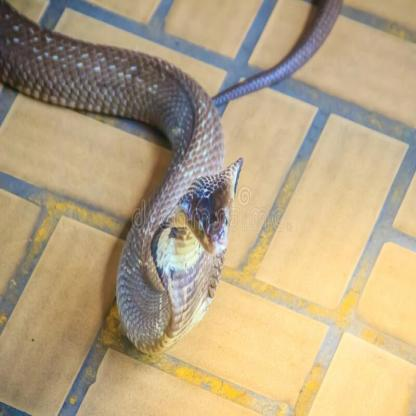Snake: (1, 0, 243, 357)
